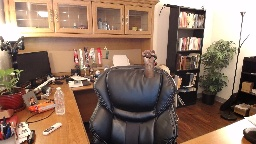Pugno: (140, 48, 157, 63)
